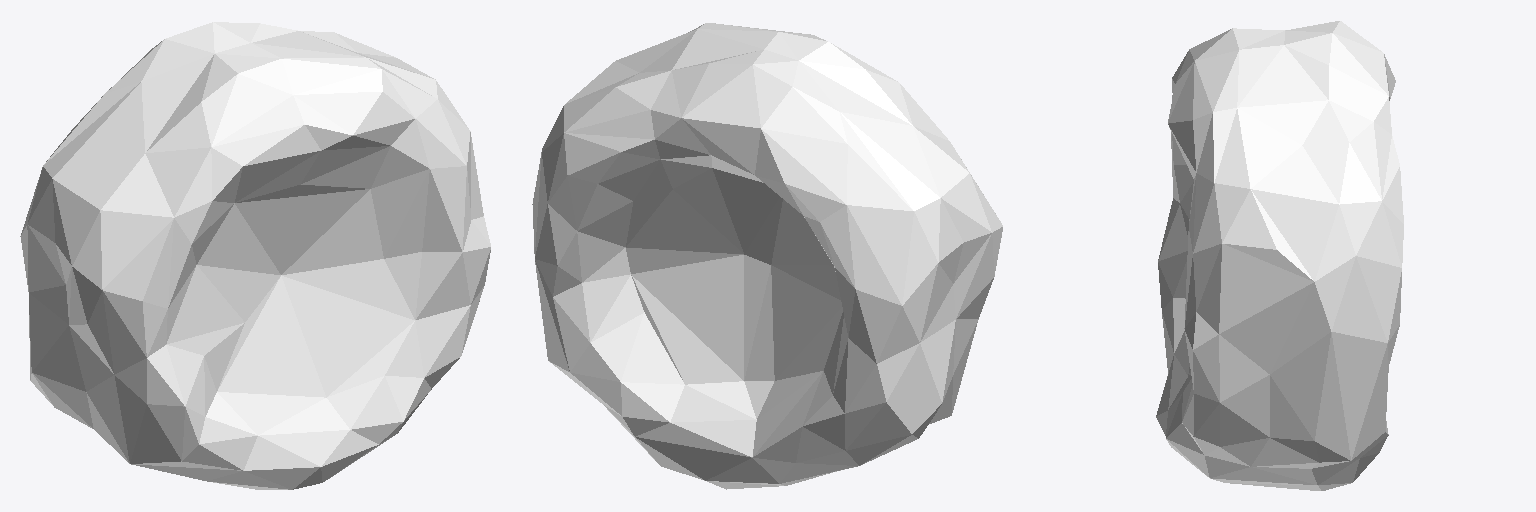
The robot description file, URDF, robot "atb1_nut-m8":
<?xml version="0.0" ?>
<robot name="atb1_nut-m8">
  <link name="baseLink">
    <contact>
      <friction_anchor/>
      <lateral_friction value="0.8"/>
      <spinning_friction value="0.001"/>
      <rolling_friction value="0.001"/>
      <contact_cfm value="0.0"/>
      <contact_erp value="0.2"/>
    </contact>
    <inertial>
       <origin rpy="0 0 0" xyz="0 0 0"/>
       <mass value="0.01"/>
       <inertia ixx="1e-3" ixy="0" ixz="0" iyy="1e-3" iyz="0" izz="1e-3"/>
    </inertial>
    <visual>
      <origin rpy="0 0 0" xyz="0 0 0"/>
      <geometry>
        <mesh filename="obj/fused_model.obj" scale="1 1 1"/>
      </geometry>
      <material name="white">
        <color rgba="1. 1. 1. 1."/>
      </material>
    </visual>
    <collision>
      <origin rpy="0 0 0" xyz="0 0 0"/>
      <geometry>
        <mesh filename="obj/fused_model.obj" scale="1 1 1"/>
      </geometry>
    </collision>
  </link>
</robot>

--- Render facts (derived) ---
3 views of the same robot in one strip: view 1: azimuth 30°, elevation 25°; view 2: azimuth 150°, elevation 25°; view 3: azimuth 270°, elevation 25° (orthographic).
Robot: atb1_nut-m8 — 1 links, 0 joints (none); root link baseLink; default pose: all joints at 0.
Visible links, largest first — view 1: baseLink; view 2: baseLink; view 3: baseLink.
Boxes of the visible links, x1,y1,x2,y2 form: baseLink: [20, 22, 490, 489]; baseLink: [532, 23, 1002, 489]; baseLink: [1156, 21, 1403, 490].
Size in the robot's own frame: 0.0135 by 0.0071 by 0.0138 metres.
1 mesh visuals loaded from 1 distinct referenced files (1 OBJ).
